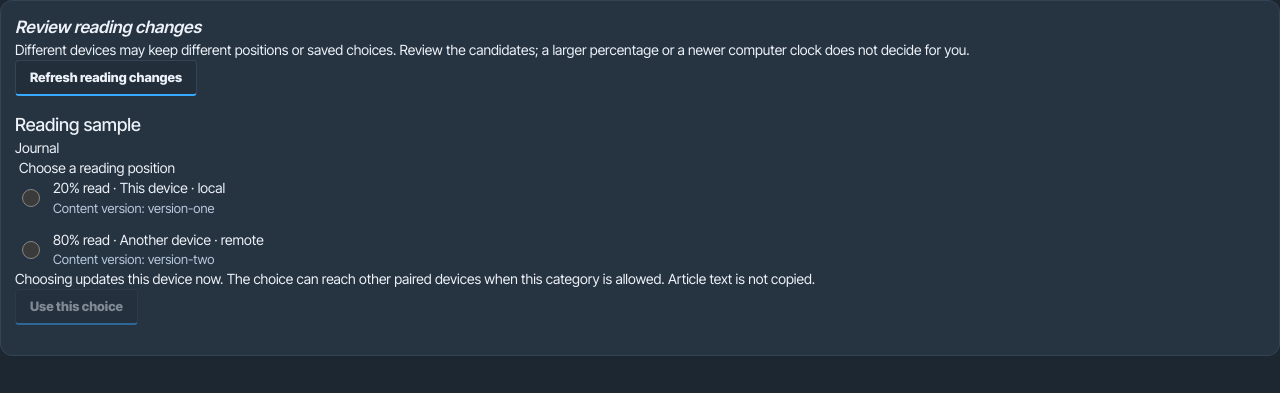
Test: keeps an unconfirmed choice available for an identical retry
Click the radio button labelled "80% read" at (31, 250), box [22,233,40,267]
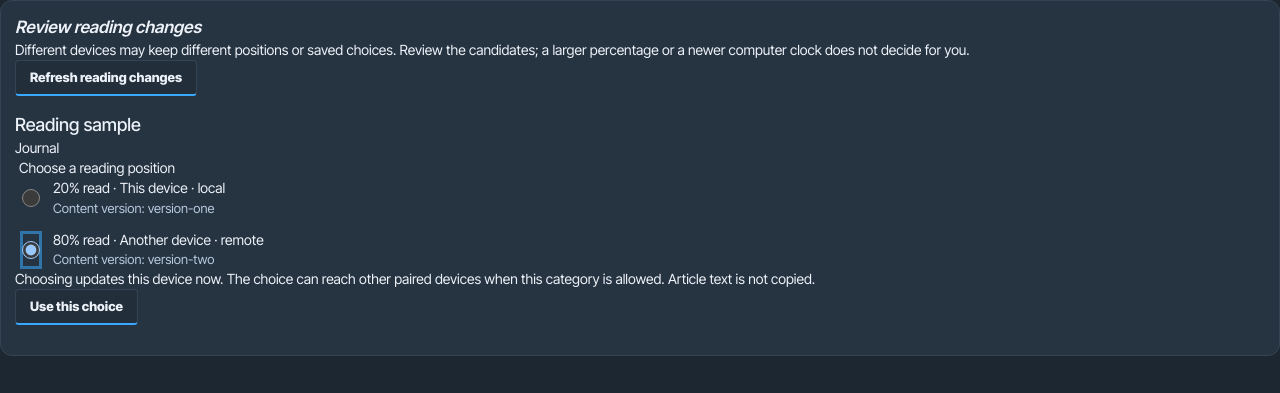
Click the button "Use this choice" at (76, 307), box [15,289,138,325]
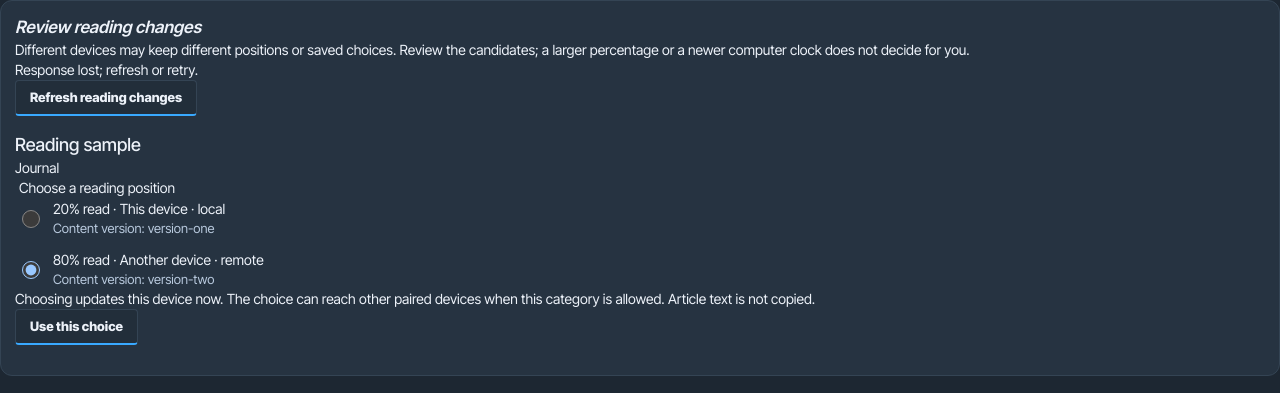
Expected: the message shows "Response lost", [15,61,198,78]
Click the button "Use this choice" at (76, 327), box [15,309,138,345]
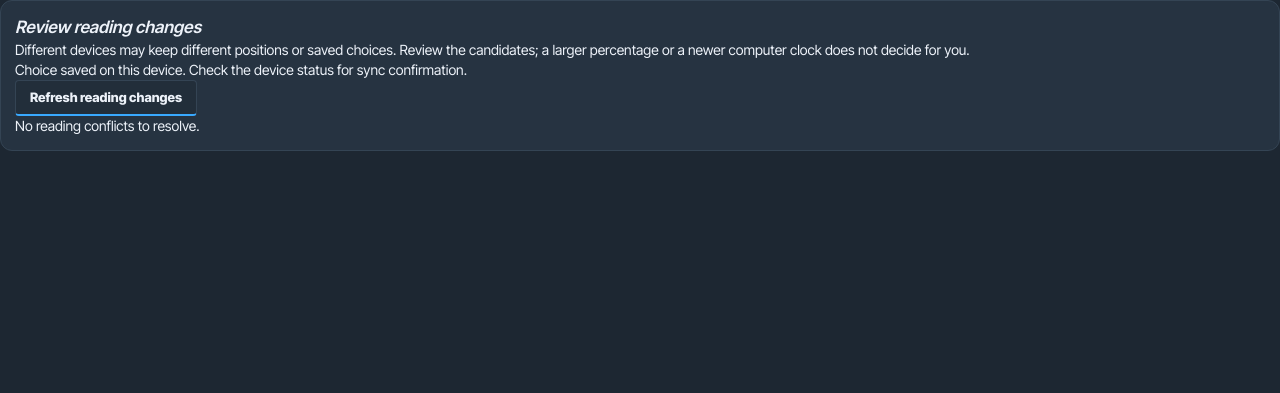
Expected: the text "No reading conflicts to resolve." is shown, [15,117,200,134]
